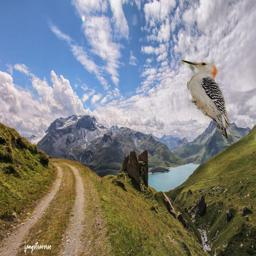Woodpecker: (180, 56, 234, 143)
